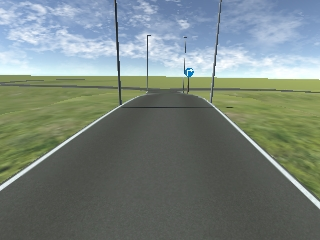right: (184, 68, 194, 76)
